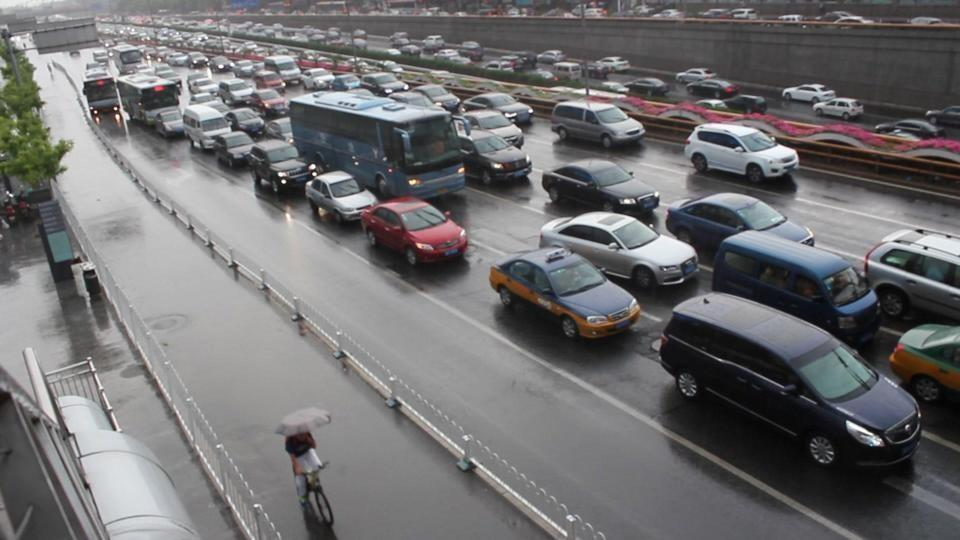car: (655, 293, 923, 474), (1, 349, 201, 537), (288, 90, 467, 215), (710, 231, 882, 348), (488, 246, 641, 341), (538, 210, 700, 291), (664, 190, 815, 265), (862, 229, 960, 324), (360, 195, 470, 266), (683, 122, 800, 187), (540, 159, 660, 220), (888, 323, 960, 405), (549, 101, 647, 152), (245, 138, 322, 198), (453, 130, 533, 185), (306, 169, 379, 224), (182, 100, 236, 151), (925, 105, 960, 130)
